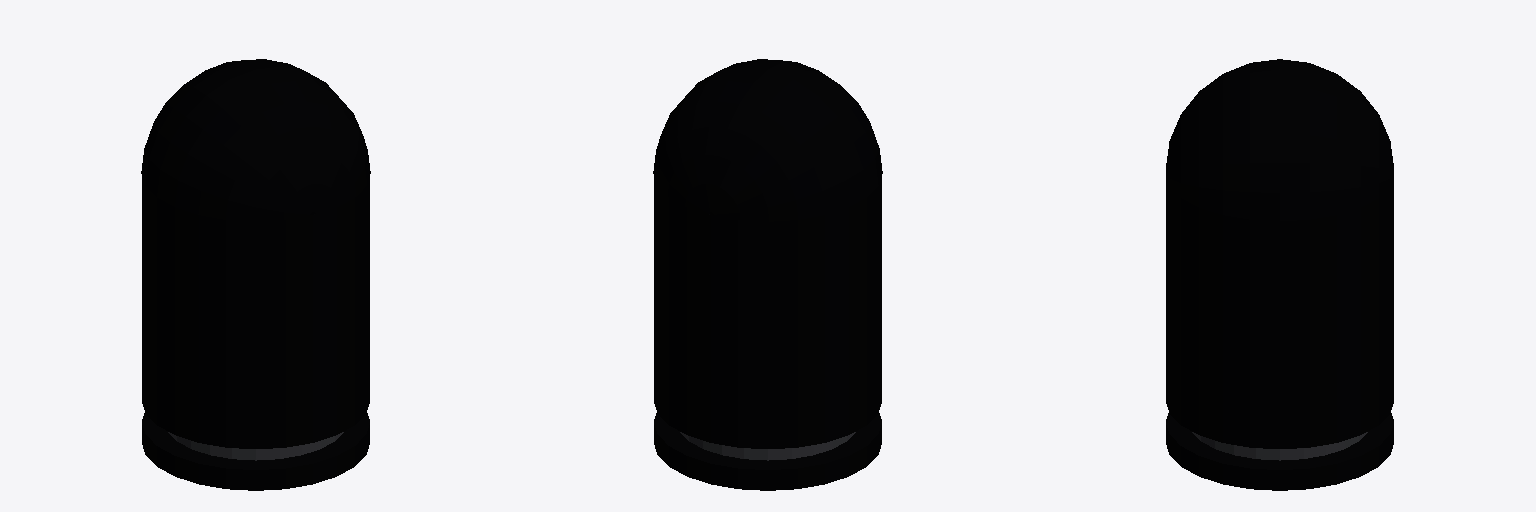
The model's file is bullet.obj.
3 views of the same model, side by side, from view 1: azimuth 30°, elevation 25°; view 2: azimuth 150°, elevation 25°; view 3: azimuth 270°, elevation 25° (orthographic).
Bounding box in the file's own units: 1 × 1.8 × 1.